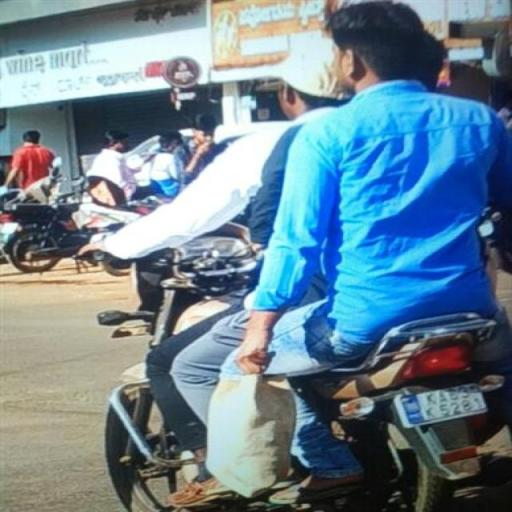tripple riding: (95, 0, 503, 334)
